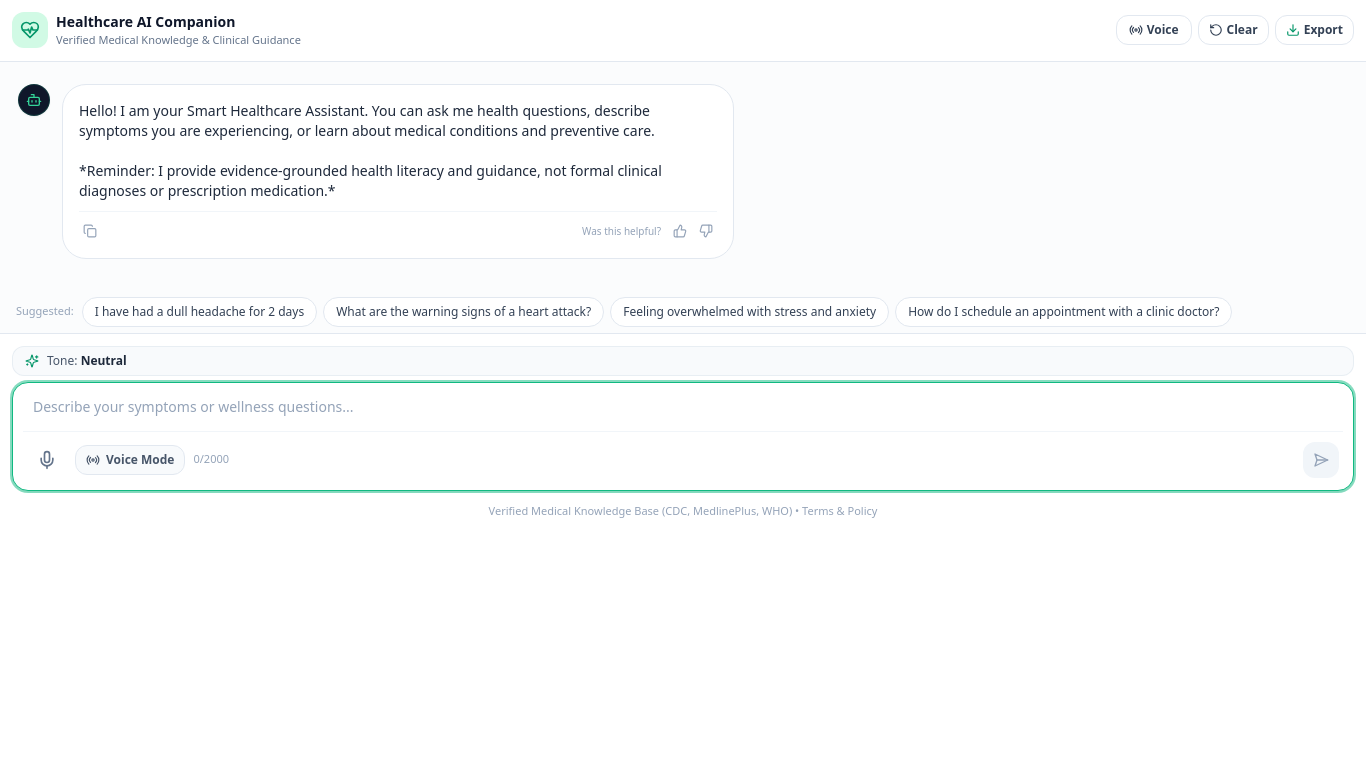
it: Chat Interface & UI Component States › Error States Handling › gracefully renders an assistant error bubble when POST /api/chat returns HTTP 500
Type "Tell me about bronchitis" into the text box with placeholder "Describe your symptoms or wellness questions..." at (683, 406), box left=23, top=392, right=1343, bottom=420
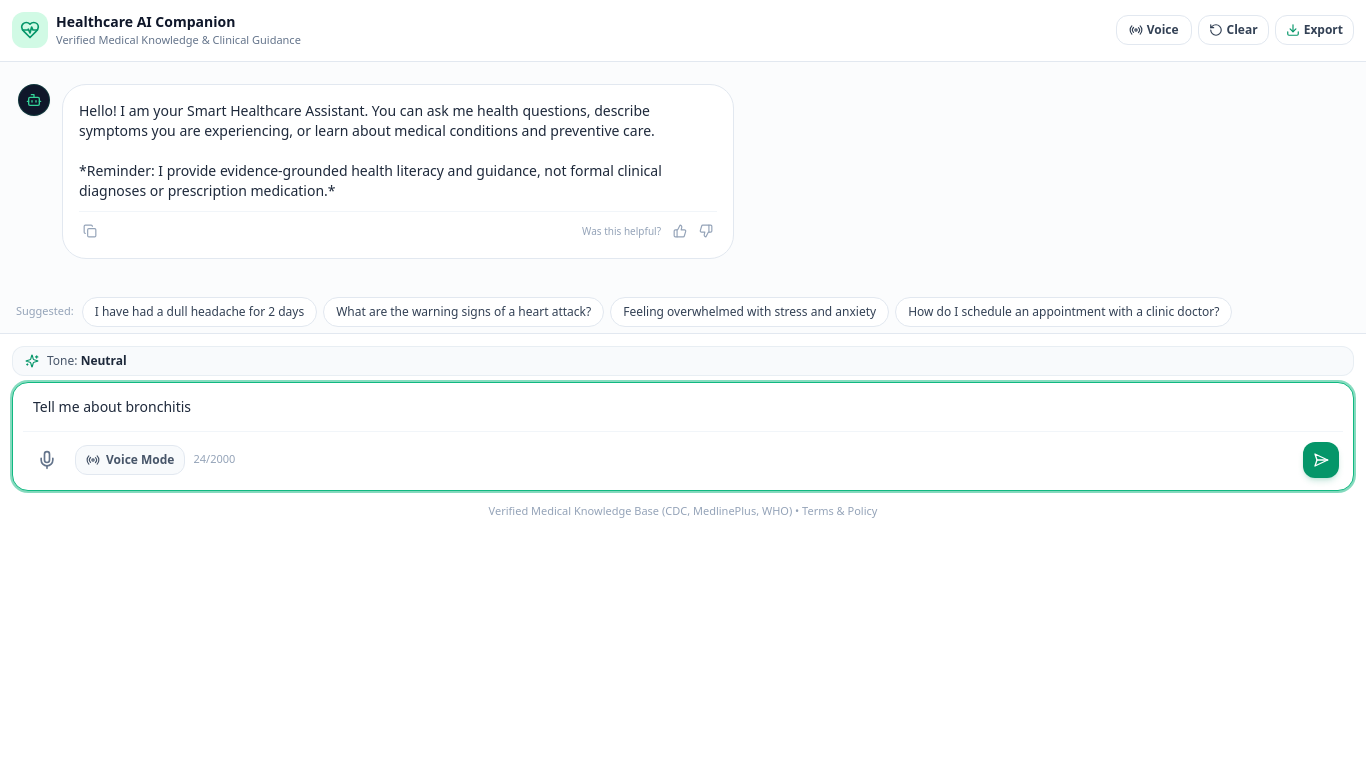
Click the button named "Send message" at (1321, 460), box left=1303, top=442, right=1339, bottom=478
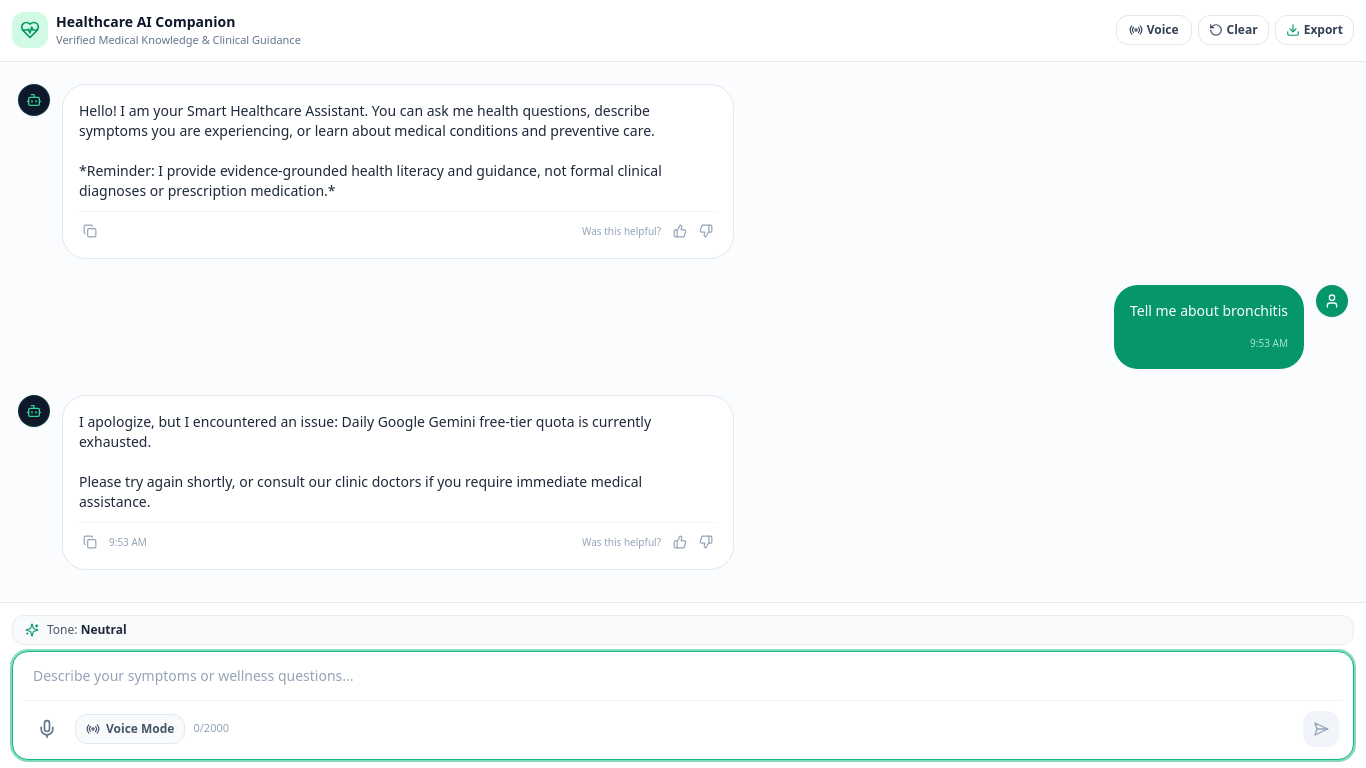
Check: the text "I apologize, but I encountered an issue: Daily Google Gemini free-tier quota" is shown, box left=79, top=412, right=655, bottom=510
